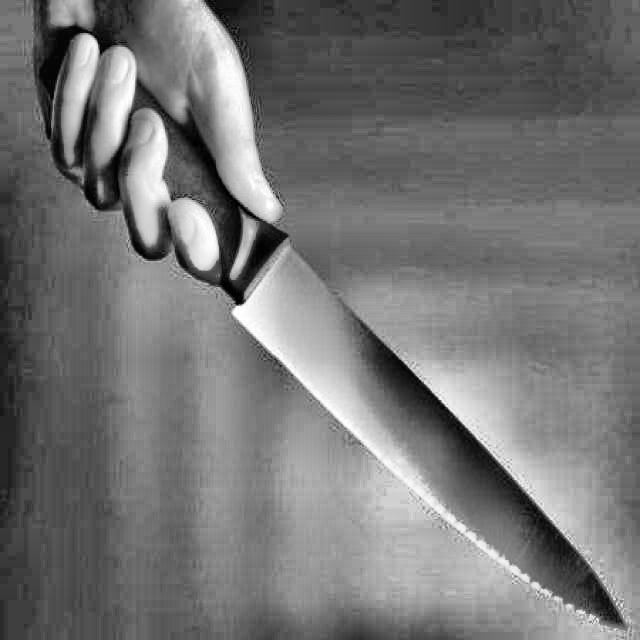knife: (131, 81, 627, 633)
